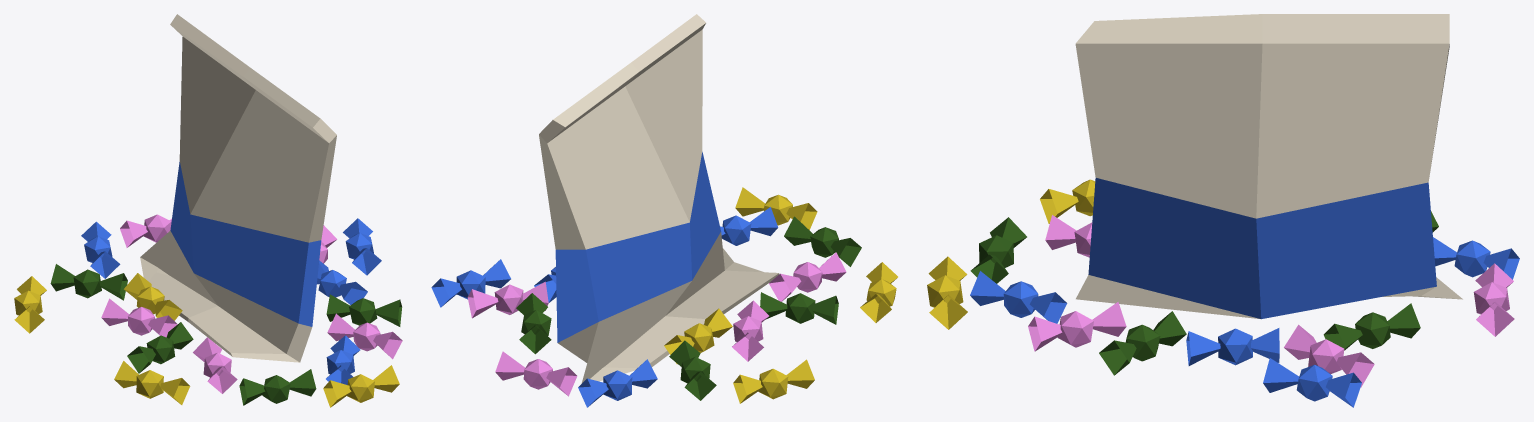
Rendered from bonbon.fbx.
3 views of the same model, side by side, from view 1: azimuth 30°, elevation 25°; view 2: azimuth 150°, elevation 25°; view 3: azimuth 270°, elevation 25° (orthographic). The views are drawn at different scales.
Parts seen in each view (by area): view 1: bonbon; view 2: bonbon; view 3: bonbon.
Part boxes in pixels (x1,y1,x2,y2): bonbon: [14, 14, 402, 407]; bonbon: [431, 14, 897, 407]; bonbon: [927, 14, 1519, 407].
Bounding box in the file's own units: 57.12 × 63.96 × 36.67.
